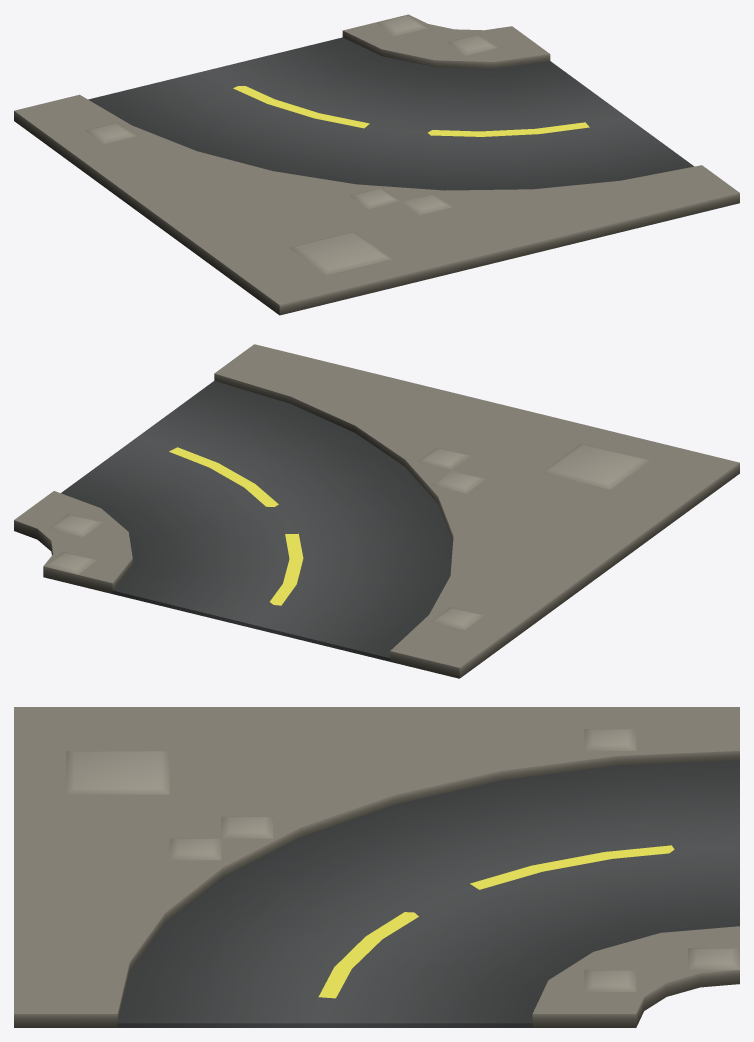
Rendered from Road_1U.fbx.
3 views of the same model, one above another, from view 1: azimuth 30°, elevation 25°; view 2: azimuth 150°, elevation 25°; view 3: azimuth 270°, elevation 25° (orthographic). The views are drawn at different scales.
Visible parts, largest first — view 1: Road_1U; view 2: Road_1U; view 3: Road_1U.
Boxes of the visible parts, box(x1,y1,x2,y2) form: Road_1U: box(14, 14, 739, 315); Road_1U: box(14, 344, 739, 678); Road_1U: box(14, 707, 739, 1027).
Bounding box in the file's own units: 14 × 0.3565 × 14.
